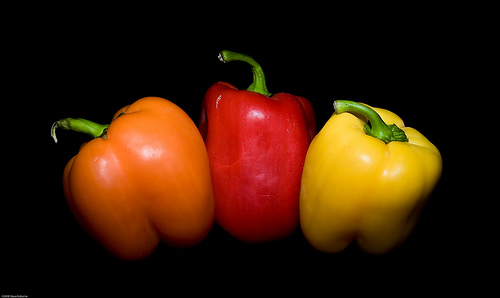capsicum: (47, 96, 214, 259), (299, 100, 443, 254), (203, 50, 309, 242)
